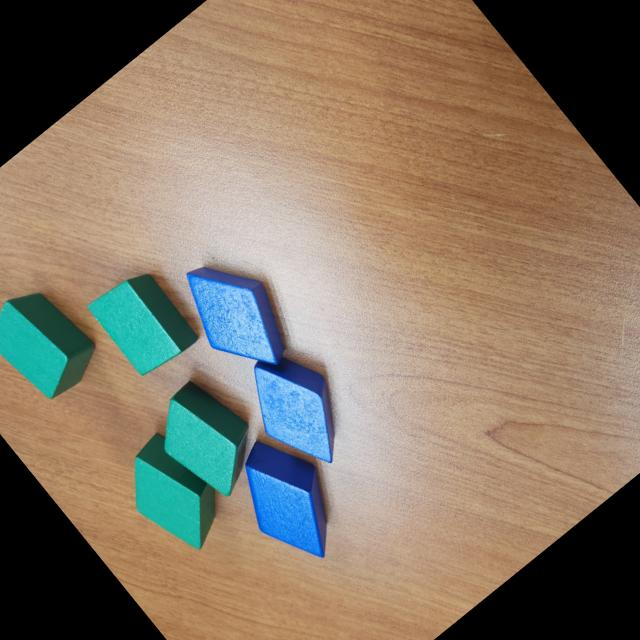blue: (215, 422, 363, 577), (166, 239, 310, 392), (228, 334, 370, 483)
green: (140, 368, 278, 510), (108, 426, 240, 564), (0, 273, 109, 413), (84, 261, 203, 384)
